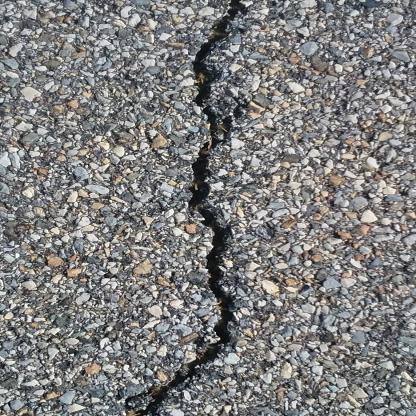Cracks: (124, 0, 300, 416)
